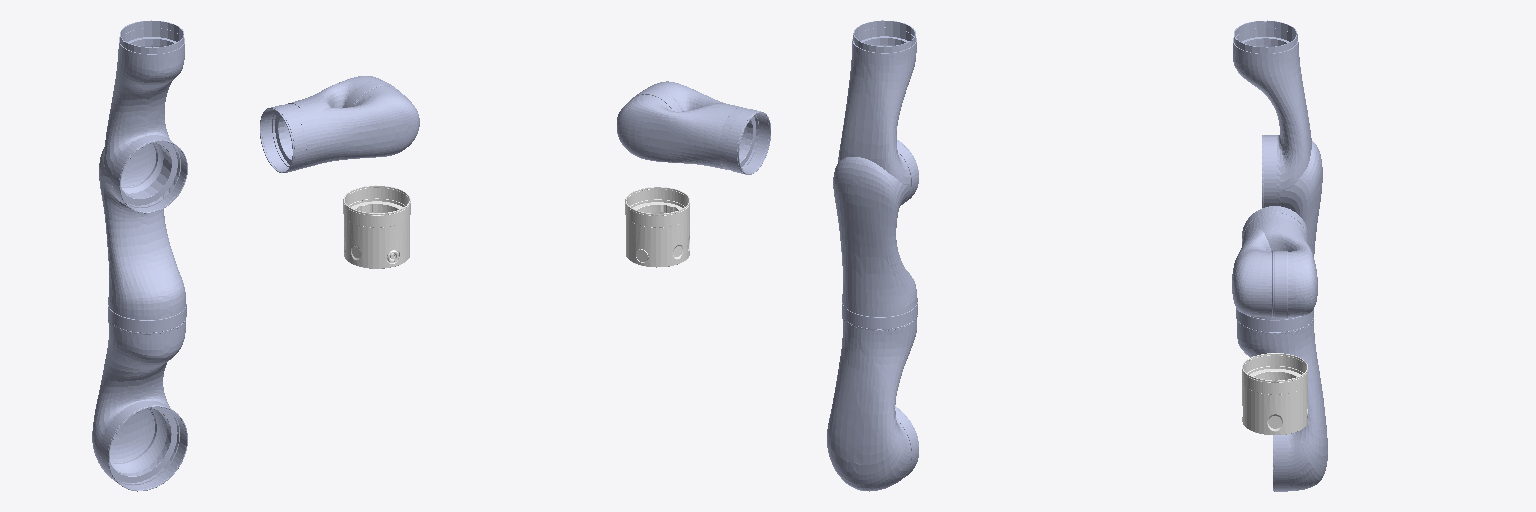
URDF robot description (tl_tcb710):
<?xml version="1.0" encoding="utf-8"?>
<!-- This URDF was automatically created by SolidWorks to URDF Exporter! Originally created by Stephen Brawner (brawner@gmail.com) 
     Commit Version: 1.6.0-4-g7f85cfe  Build Version: 1.6.7995.38578
     For more information, please see http://wiki.ros.org/sw_urdf_exporter -->
<robot
  name="tl_tcb710">
  <link
    name="link0">
    <inertial>
      <origin
        xyz="-0.0020391678669849 0.000208461233542918 0.0437970464318419"
        rpy="0 0 0" />
      <mass
        value="0.230943297728628" />
      <inertia
        ixx="0.00057885793198858"
        ixy="2.496442951584E-06"
        ixz="-3.62761994221812E-06"
        iyy="0.000597326060992728"
        iyz="8.87603974516213E-07"
        izz="0.000630268815467399" />
    </inertial>
    <visual>
      <origin
        xyz="0 0 0"
        rpy="0 0 0" />
      <geometry>
        <mesh
          filename="package://tl_description/meshes/tl_tcb710/link0.STL" />
      </geometry>
      <material
        name="">
        <color
          rgba="0.792156862745098 0.819607843137255 0.933333333333333 1" />
      </material>
    </visual>
    <collision>
      <origin
        xyz="0 0 0"
        rpy="0 0 0" />
      <geometry>
        <mesh
          filename="package://tl_description/meshes/tl_tcb710/link0.STL" />
      </geometry>
    </collision>
  </link>
  <link
    name="link1">
    <inertial>
      <origin
        xyz="-2.8259283596747E-06 -0.0149440554612562 0.0760738628611229"
        rpy="0 0 0" />
      <mass
        value="0.188795049535535" />
      <inertia
        ixx="0.000644330974536614"
        ixy="5.55804168466858E-08"
        ixz="-5.40921744937969E-08"
        iyy="0.000669839544820847"
        iyz="0.000101917330586459"
        izz="0.000292784373513458" />
    </inertial>
    <visual>
      <origin
        xyz="0 0 0"
        rpy="0 0 0" />
      <geometry>
        <mesh
          filename="package://tl_description/meshes/tl_tcb710/link1.STL" />
      </geometry>
      <material
        name="">
        <color
          rgba="0.792156862745098 0.819607843137255 0.933333333333333 1" />
      </material>
    </visual>
    <collision>
      <origin
        xyz="0 0 0"
        rpy="0 0 0" />
      <geometry>
        <mesh
          filename="package://tl_description/meshes/tl_tcb710/link1.STL" />
      </geometry>
    </collision>
  </link>
  <joint
    name="joint1"
    type="revolute">
    <origin
      xyz="0 0 0.12215"
      rpy="0 0 0" />
    <parent
      link="link0" />
    <child
      link="link1" />
    <axis
      xyz="0 0 1" />
    <limit
      lower="-3.1416"
      upper="3.1416"
      effort="0"
      velocity="0" />
  </joint>
  <link
    name="link2">
    <inertial>
      <origin
        xyz="-1.20347801173404E-05 -0.0623096534981243 0.0137313757510769"
        rpy="0 0 0" />
      <mass
        value="0.167852810050995" />
      <inertia
        ixx="0.000623582919856085"
        ixy="-1.02023977094887E-07"
        ixz="-2.62605885954543E-08"
        iyy="0.000204004006193839"
        iyz="-9.63924565522136E-05"
        izz="0.00065392663703825" />
    </inertial>
    <visual>
      <origin
        xyz="0 0 0"
        rpy="0 0 0" />
      <geometry>
        <mesh
          filename="package://tl_description/meshes/tl_tcb710/link2.STL" />
      </geometry>
      <material
        name="">
        <color
          rgba="0.792156862745098 0.819607843137255 0.933333333333333 1" />
      </material>
    </visual>
    <collision>
      <origin
        xyz="0 0 0"
        rpy="0 0 0" />
      <geometry>
        <mesh
          filename="package://tl_description/meshes/tl_tcb710/link2.STL" />
      </geometry>
    </collision>
  </link>
  <joint
    name="joint2"
    type="revolute">
    <origin
      xyz="0 0.00665 0.14085"
      rpy="-1.5708 0 0" />
    <parent
      link="link1" />
    <child
      link="link2" />
    <axis
      xyz="0 0 1" />
    <limit
      lower="-2.3737"
      upper="2.3737"
      effort="0"
      velocity="0" />
  </joint>
  <link
    name="link3">
    <inertial>
      <origin
        xyz="5.16658197163927E-06 0.0163972498279079 0.0859506429615113"
        rpy="0 0 0" />
      <mass
        value="0.168577225205791" />
      <inertia
        ixx="0.000629526574073839"
        ixy="-2.02624198321946E-08"
        ixz="-6.34209697911759E-08"
        iyy="0.00064666112037888"
        iyz="-9.3367155636714E-05"
        izz="0.000173965065870905" />
    </inertial>
    <visual>
      <origin
        xyz="0 0 0"
        rpy="0 0 0" />
      <geometry>
        <mesh
          filename="package://tl_description/meshes/tl_tcb710/link3.STL" />
      </geometry>
      <material
        name="">
        <color
          rgba="0.792156862745098 0.819607843137255 0.933333333333333 1" />
      </material>
    </visual>
    <collision>
      <origin
        xyz="0 0 0"
        rpy="0 0 0" />
      <geometry>
        <mesh
          filename="package://tl_description/meshes/tl_tcb710/link3.STL" />
      </geometry>
    </collision>
  </link>
  <joint
    name="joint3"
    type="revolute">
    <origin
      xyz="0 -0.16015 -0.00665"
      rpy="1.5708 0 0" />
    <parent
      link="link2" />
    <child
      link="link3" />
    <axis
      xyz="0 0 1" />
    <limit
      lower="-3.1416"
      upper="3.1416"
      effort="0"
      velocity="0" />
  </joint>
  <link
    name="link4">
    <inertial>
      <origin
        xyz="2.74481746994647E-06 0.0654996485122789 0.0144299040479778"
        rpy="0 0 0" />
      <mass
        value="0.145368246128048" />
      <inertia
        ixx="0.000526467481082564"
        ixy="2.65464402133645E-08"
        ixz="8.84179853189088E-09"
        iyy="0.000131598077920685"
        iyz="7.17192965076358E-05"
        izz="0.000544513478137754" />
    </inertial>
    <visual>
      <origin
        xyz="0 0 0"
        rpy="0 0 0" />
      <geometry>
        <mesh
          filename="package://tl_description/meshes/tl_tcb710/link4.STL" />
      </geometry>
      <material
        name="">
        <color
          rgba="0.792156862745098 0.819607843137255 0.933333333333333 1" />
      </material>
    </visual>
    <collision>
      <origin
        xyz="0 0 0"
        rpy="0 0 0" />
      <geometry>
        <mesh
          filename="package://tl_description/meshes/tl_tcb710/link4.STL" />
      </geometry>
    </collision>
  </link>
  <joint
    name="joint4"
    type="revolute">
    <origin
      xyz="0 -0.00515000000097151 0.160350000000103"
      rpy="1.5708 1.5708 0" />
    <parent
      link="link3" />
    <child
      link="link4" />
    <axis
      xyz="0 0 -1" />
    <limit
      lower="-4.1423"
      upper="0.9935"
      effort="0"
      velocity="0" />
  </joint>
  <link
    name="link5">
    <inertial>
      <origin
        xyz="5.0903584939717E-06 -0.0131445029955622 0.0626745222356144"
        rpy="0 0 0" />
      <mass
        value="0.0899815381638705" />
      <inertia
        ixx="0.000204808170770652"
        ixy="1.15810515435536E-08"
        ixz="-4.06988048136172E-08"
        iyy="0.000207969515429875"
        iyz="3.60476542196074E-05"
        izz="7.75188399631723E-05" />
    </inertial>
    <visual>
      <origin
        xyz="0 0 0"
        rpy="0 0 0" />
      <geometry>
        <mesh
          filename="package://tl_description/meshes/tl_tcb710/link5.STL" />
      </geometry>
      <material
        name="">
        <color
          rgba="0.792156862745098 0.819607843137255 0.933333333333333 1" />
      </material>
    </visual>
    <collision>
      <origin
        xyz="0 0 0"
        rpy="0 0 0" />
      <geometry>
        <mesh
          filename="package://tl_description/meshes/tl_tcb710/link5.STL" />
      </geometry>
    </collision>
  </link>
  <joint
    name="joint5"
    type="revolute">
    <origin
      xyz="0 0.16615 -0.00515"
      rpy="-1.5708 0 0" />
    <parent
      link="link4" />
    <child
      link="link5" />
    <axis
      xyz="0 0 1" />
    <limit
      lower="-3.1416"
      upper="3.1416"
      effort="0"
      velocity="0" />
  </joint>
  <link
    name="link6">
    <inertial>
      <origin
        xyz="-1.29749982976229E-05 -0.0398707312600618 0.00873816110028223"
        rpy="0 0 0" />
      <mass
        value="0.0915266768417461" />
      <inertia
        ixx="0.000167005961446374"
        ixy="3.6263134123019E-08"
        ixz="1.27355290243357E-08"
        iyy="8.07130413912459E-05"
        iyz="-3.15887030571337E-05"
        izz="0.000170834721676769" />
    </inertial>
    <visual>
      <origin
        xyz="0 0 0"
        rpy="0 0 0" />
      <geometry>
        <mesh
          filename="package://tl_description/meshes/tl_tcb710/link6.STL" />
      </geometry>
      <material
        name="">
        <color
          rgba="0.792156862745098 0.819607843137255 0.933333333333333 1" />
      </material>
    </visual>
    <collision>
      <origin
        xyz="0 0 0"
        rpy="0 0 0" />
      <geometry>
        <mesh
          filename="package://tl_description/meshes/tl_tcb710/link6.STL" />
      </geometry>
    </collision>
  </link>
  <joint
    name="joint6"
    type="revolute">
    <origin
      xyz="0 0.00615 0.11335"
      rpy="-1.5708 1.5708 0" />
    <parent
      link="link5" />
    <child
      link="link6" />
    <axis
      xyz="0 0 1" />
    <limit
      lower="-3.8386"
      upper="0.6970"
      effort="0"
      velocity="0" />
  </joint>
  <link
    name="link7">
    <inertial>
      <origin
        xyz="-0.000434237011846764 0.000637648606368289 -0.525686743646955"
        rpy="0 0 0" />
      <mass
        value="1.15874182567556" />
      <inertia
        ixx="0.116276954988251"
        ixy="2.34152356015531E-06"
        ixz="-0.000174847829877361"
        iyy="0.116146148706863"
        iyz="5.09359441744213E-05"
        izz="0.00191084016595979" />
    </inertial>
    <visual>
      <origin
        xyz="0 0 0"
        rpy="0 0 0" />
      <geometry>
        <mesh
          filename="package://tl_description/meshes/tl_tcb710/link7.STL" />
      </geometry>
      <material
        name="">
        <color
          rgba="1 1 1 1" />
      </material>
    </visual>
    <collision>
      <origin
        xyz="0 0 0"
        rpy="0 0 0" />
      <geometry>
        <mesh
          filename="package://tl_description/meshes/tl_tcb710/link7.STL" />
      </geometry>
    </collision>
  </link>
  <joint
    name="joint7"
    type="revolute">
    <origin
      xyz="0 -0.10615 -0.00615"
      rpy="1.5708 0 0" />
    <parent
      link="link6" />
    <child
      link="link7" />
    <axis
      xyz="0 0 1" />
    <limit
      lower="-3.1416"
      upper="3.1416"
      effort="0"
      velocity="0" />
  </joint>
</robot>

--- What the picture shows (computed from the rendered views, not written in the file) ---
The picture shows the robot from 3 angles, left to right: view 1: azimuth 30°, elevation 25°; view 2: azimuth 150°, elevation 25°; view 3: azimuth 270°, elevation 25°; orthographic projection.
Model tl_tcb710 with 8 links and 7 joints (7 revolute), rooted at link0, posed all joints at 0.
Visible links, largest first — view 1: link2, link4, link3, link5, link7, link6; view 2: link2, link3, link4, link6, link7, link5; view 3: link4, link2, link7, link6, link5, link3.
Boxes of the visible links, x1,y1,x2,y2 form: link2: (92,321,187,491); link4: (104,20,187,213); link3: (99,143,186,334); link5: (260,86,419,172); link7: (343,185,410,268); link6: (288,76,398,166); link2: (827,317,918,491); link3: (833,157,917,330); link4: (838,20,918,204); link6: (617,89,738,169); link7: (625,187,689,267); link5: (643,81,770,174); link4: (1233,20,1311,207); link2: (1237,320,1327,491); link7: (1242,353,1307,434); link6: (1251,216,1317,317); link5: (1232,206,1307,316); link3: (1236,141,1322,333).
Size in the robot's own frame: 0.3633 by 0.1025 by 0.5334 metres.
Meshes: 8 distinct files referenced, 6 mesh visuals loaded (6 binary STL); not drawn: 2 (reference not matched to a file when rendering).
